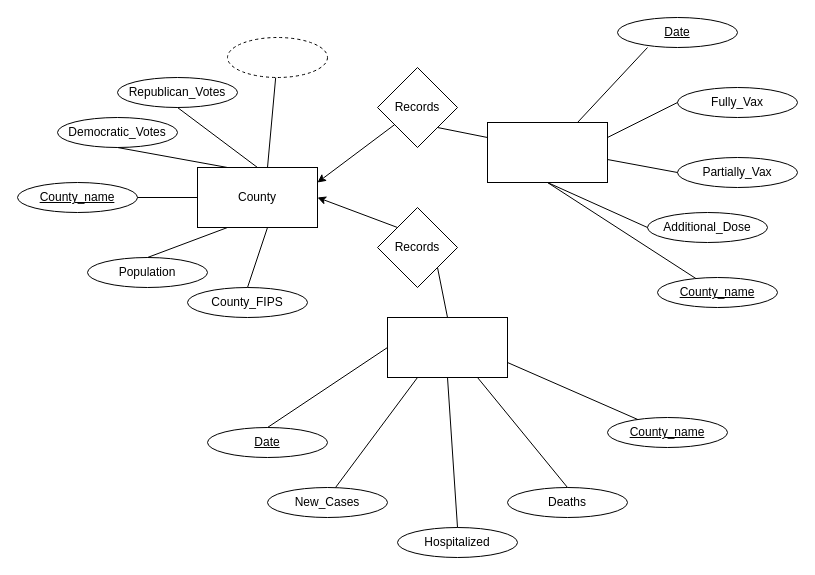
The diagram is 815 pixels wide and 575 high, and some of its shapes have lost their labels. The box of each missing label's shape, as (x1, y1, x2, y2) in pixels:
Cases: (386, 316, 508, 378)
represent_Party: (226, 36, 328, 78)
Vax: (486, 122, 608, 182)
